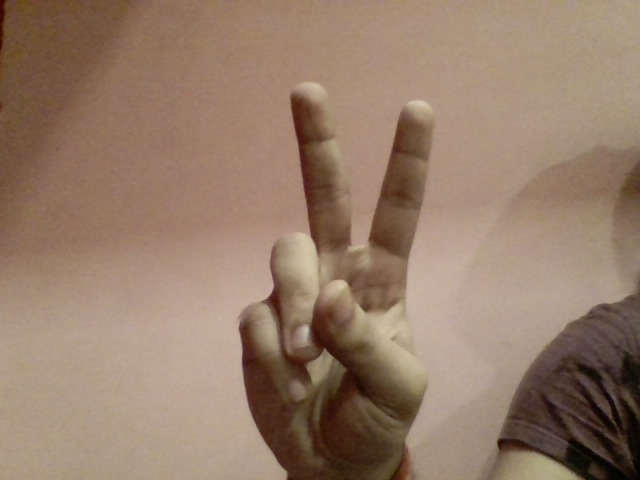v: (226, 72, 461, 464)
